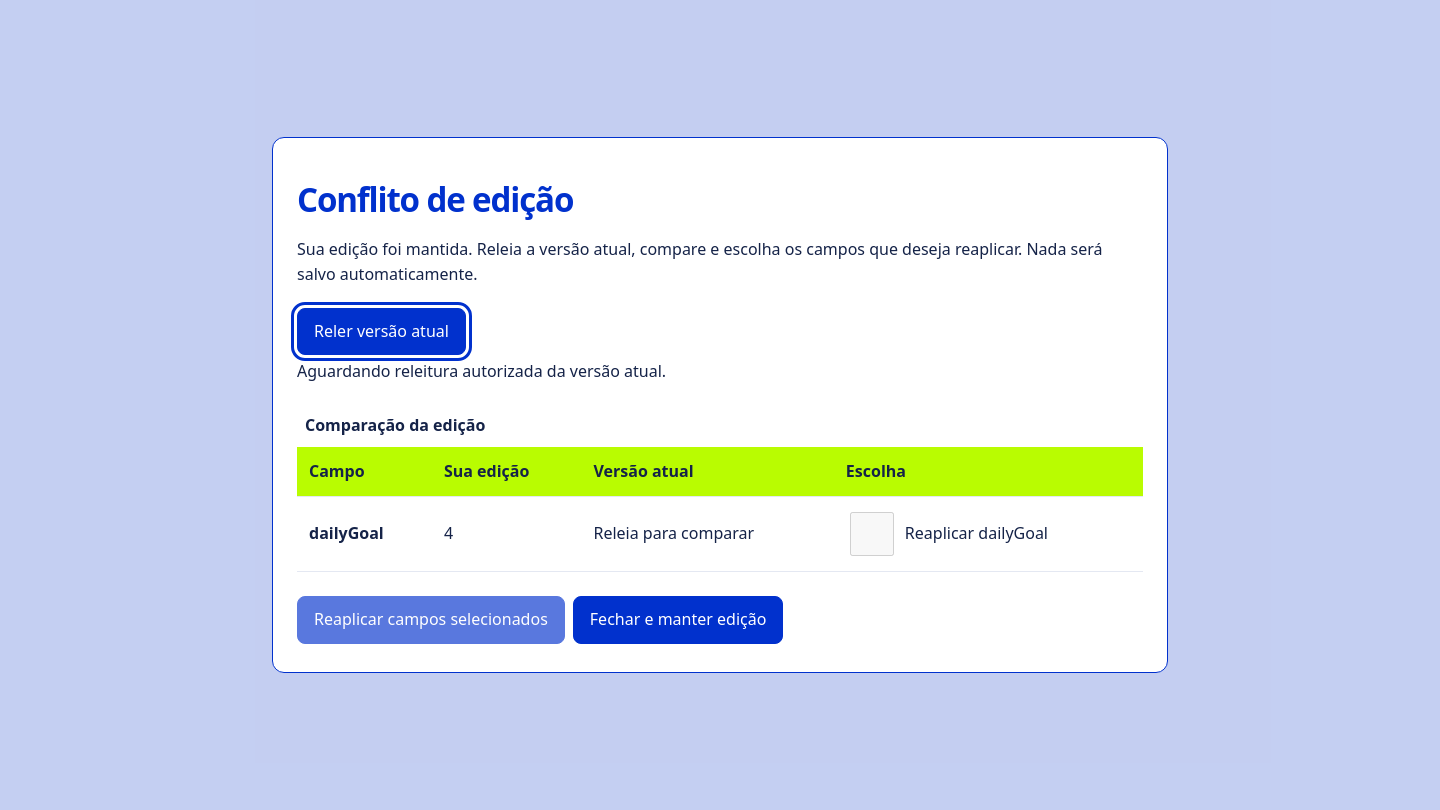
Test: review regressions: credential identity and authorized rereads › surfaces a failed 503 reread through the actual controller/dialog pairing and permits explicit retry
The image size is (1440, 810).
Click the button "Reler versão atual" at {"x": 381, "y": 332}, box [297,308,466,355]
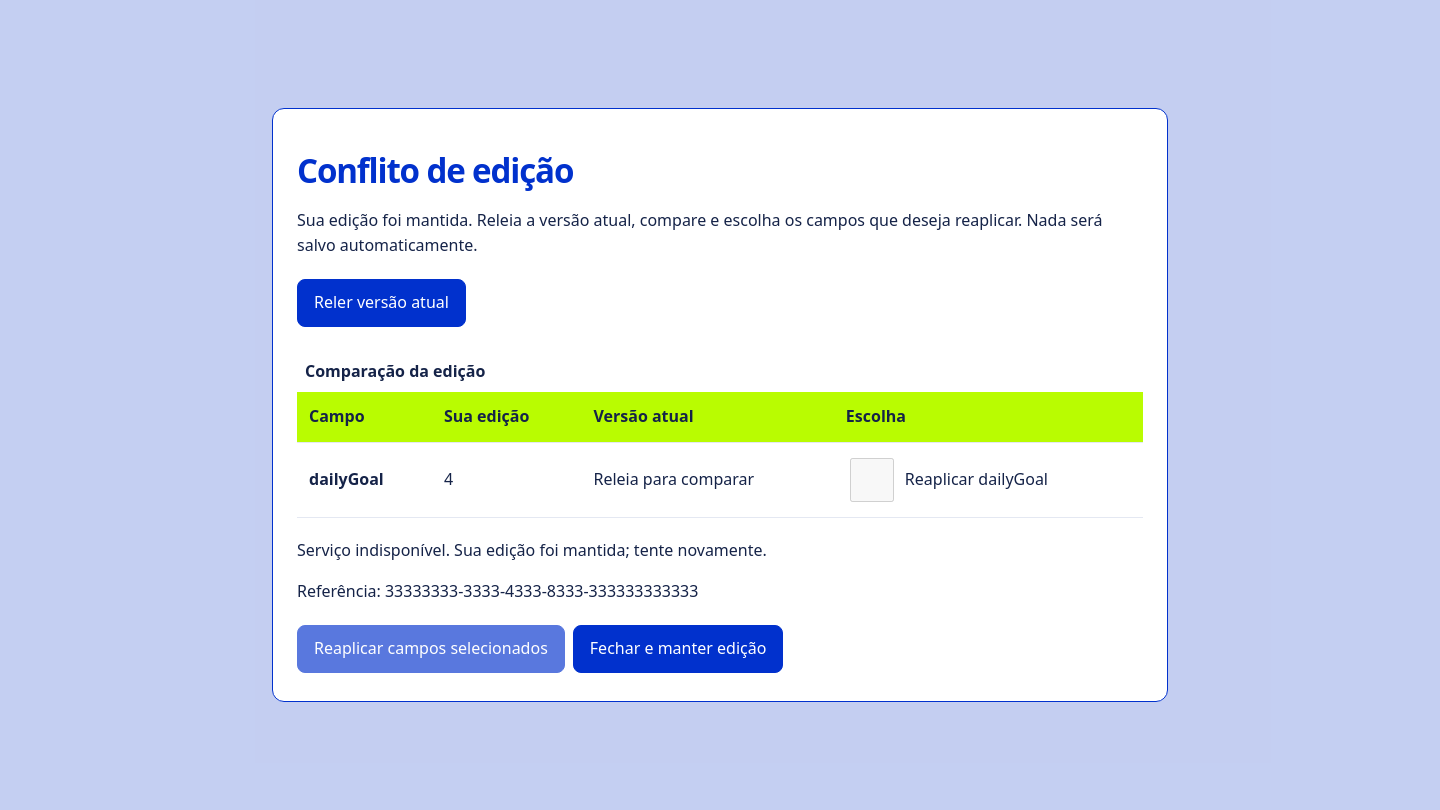
Expected: the button "Reaplicar campos selecionados" is disabled, [297,625,565,673]
Expected: the message shows "indisponível", [297,539,767,561]
Expected: the text "Aguardando releitura" is gone
Click the button "Reler versão atual" at {"x": 381, "y": 303}, box [297,279,466,327]
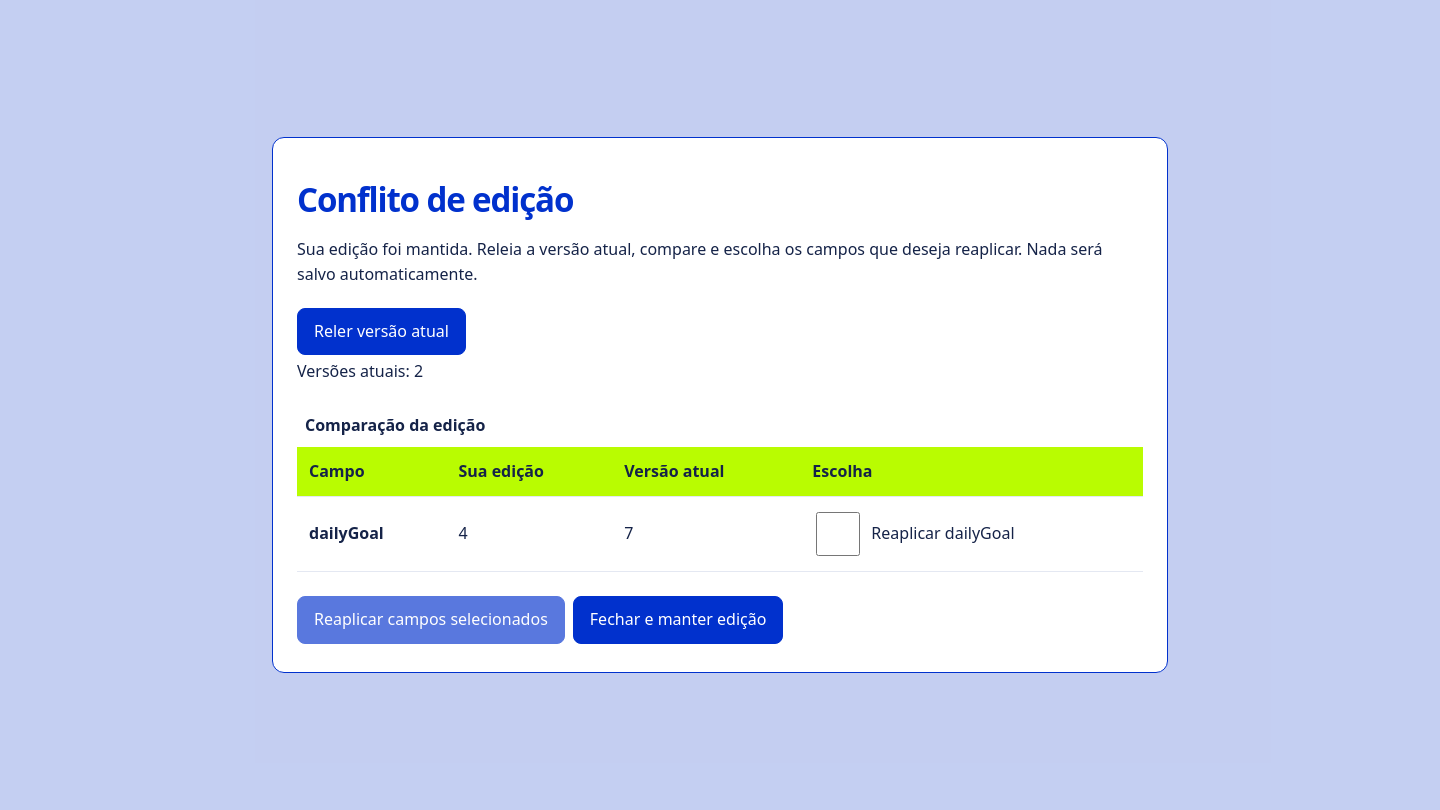
Expected: the message "Serviço indisponível. Sua edição foi mantida; tente novamente." is gone
